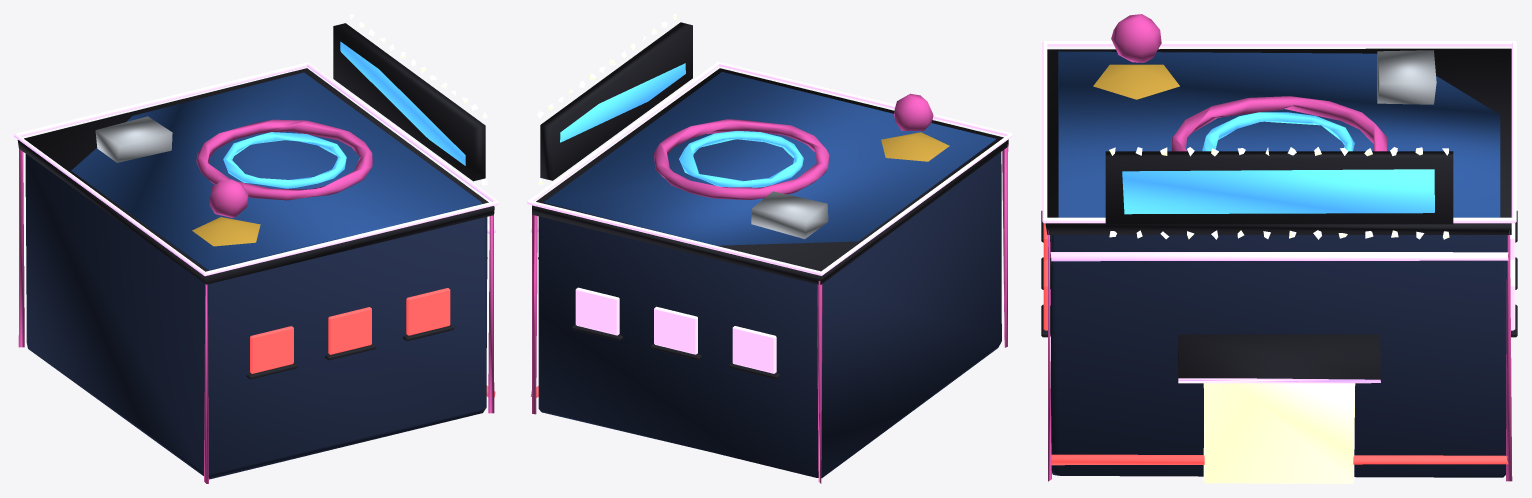
Rendered from arcade.glb.
The picture shows the model from 3 angles, left to right: view 1: azimuth 30°, elevation 25°; view 2: azimuth 150°, elevation 25°; view 3: azimuth 270°, elevation 25°; orthographic projection. The views are drawn at different scales.
Parts seen in each view (by area): view 1: arcade; view 2: arcade; view 3: arcade.
Boxes of the visible parts, left/top/right/bottom form: arcade: left=14, top=14, right=498, bottom=483; arcade: left=527, top=14, right=1012, bottom=483; arcade: left=1041, top=14, right=1517, bottom=483.
Bounding box in the file's own units: 9.55 × 7.48 × 9.34.
1 material, 1 textured.
